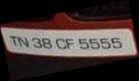character: (54, 37, 67, 49), (99, 37, 111, 49), (110, 37, 122, 49), (41, 36, 52, 49), (17, 36, 29, 47), (78, 38, 89, 50), (88, 38, 100, 49), (31, 37, 42, 48), (8, 35, 17, 47), (65, 37, 74, 49)
